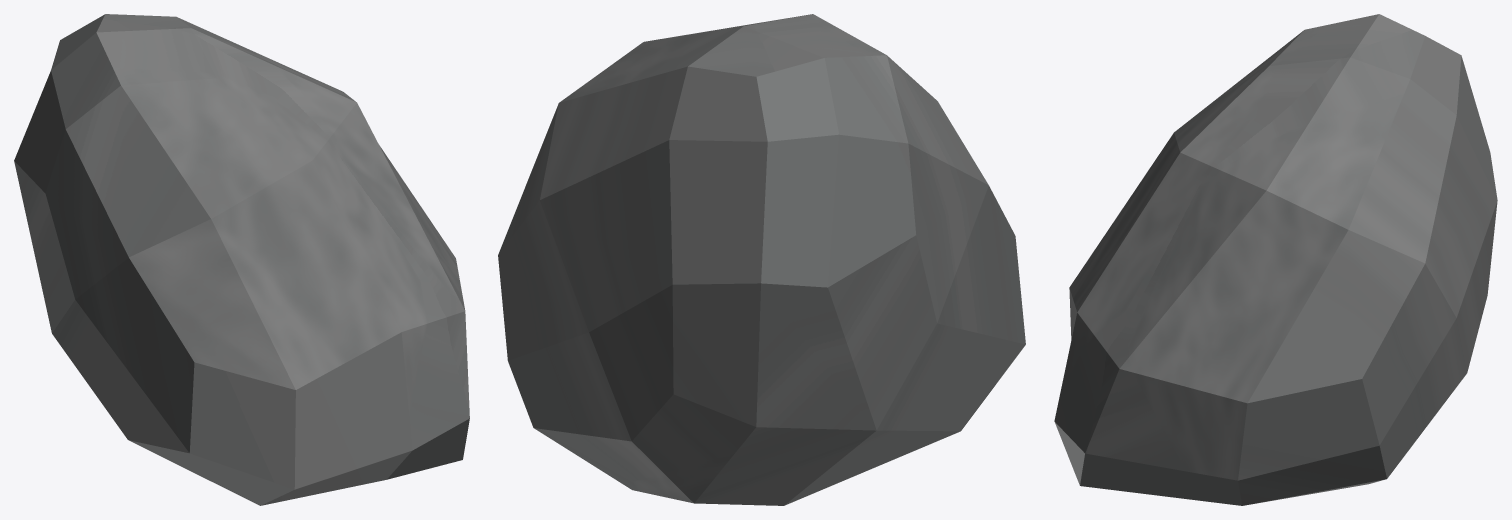
Rendered from Rocha3.fbx.
3 renders of one model, left to right at view 1: azimuth 30°, elevation 25°; view 2: azimuth 150°, elevation 25°; view 3: azimuth 270°, elevation 25°, orthographic. The views are drawn at different scales.
Parts seen in each view (by area): view 1: Rock2; view 2: Rock2; view 3: Rock2.
Part boxes in pixels (left/top/right/bottom): Rock2: left=14, top=14, right=469, bottom=505; Rock2: left=498, top=14, right=1025, bottom=505; Rock2: left=1054, top=14, right=1497, bottom=505.
Bounding box in the file's own units: 167 × 180 × 181.
